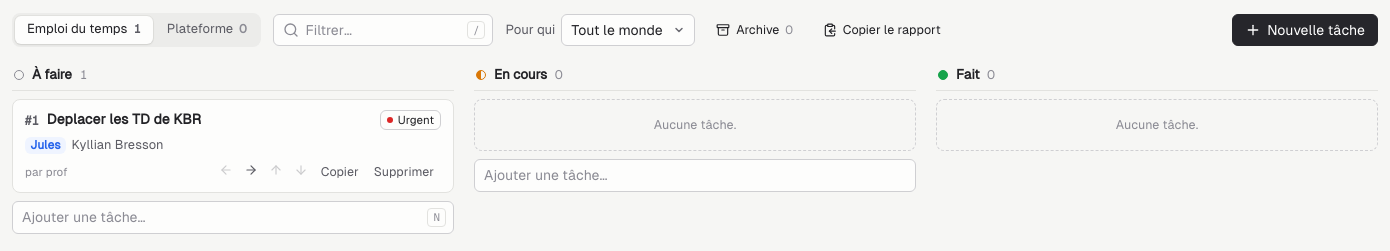
Test: KanbanView › should copy every detail of a card to the clipboard
The width and height of the screenshot is (1390, 251).
Check: the button "Deplacer les TD de KBR" is shown, box [47,110,372,129]
Click the button with aria-label "Copier toutes les informations".
click(340, 172)  # box [314,160,366,184]
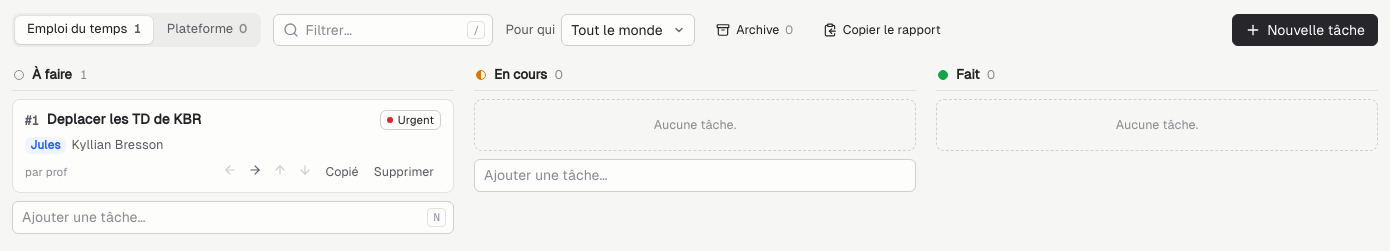
Check: the button "Copié" is shown, box [318,160,366,184]
